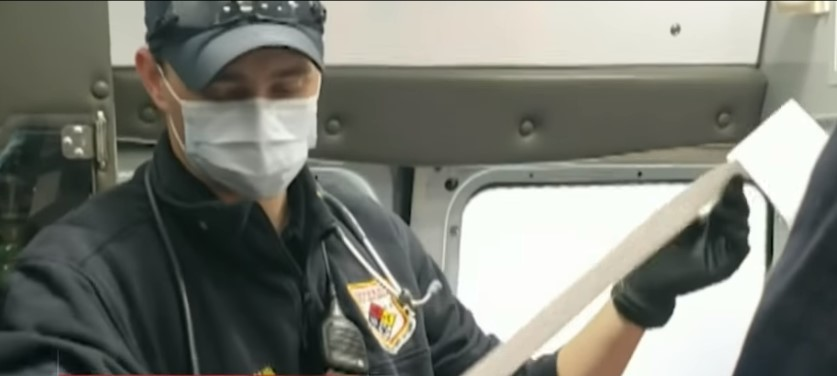face_with_mask: (125, 0, 332, 210)
